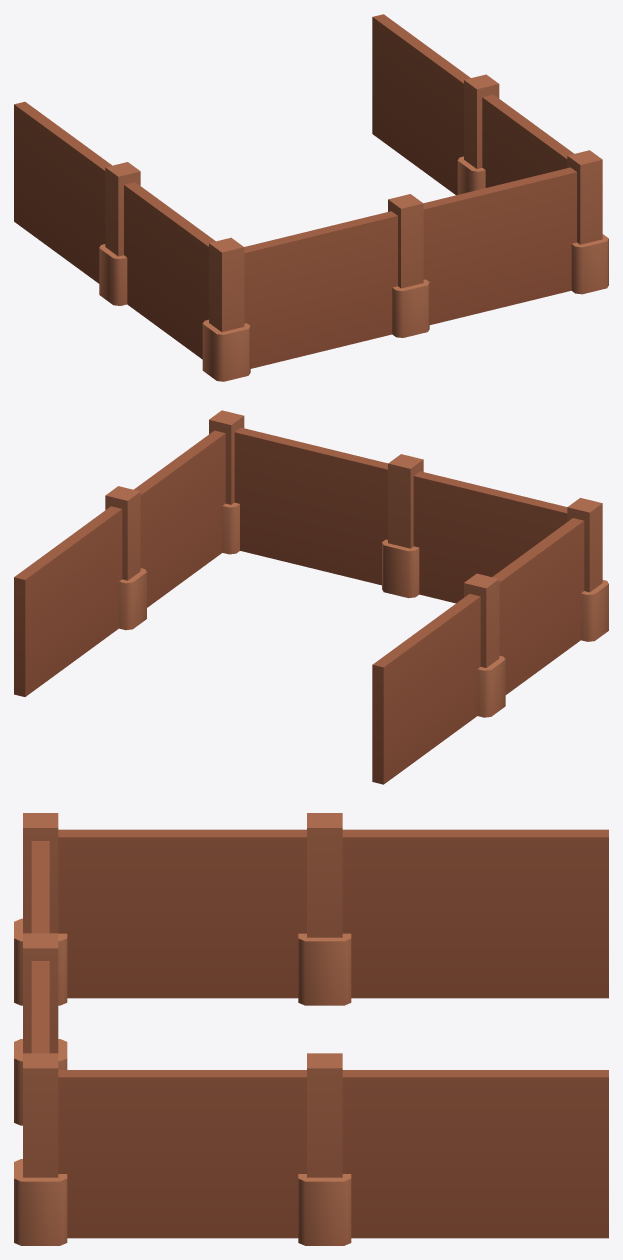
Rendered from fence-2x2.glb.
3 renders of one model, top to bottom at view 1: azimuth 30°, elevation 25°; view 2: azimuth 150°, elevation 25°; view 3: azimuth 270°, elevation 25°, orthographic. The views are drawn at different scales.
Parts seen in each view (by area): view 1: fence-2x2; view 2: fence-2x2; view 3: fence-2x2.
Boxes of the visible parts, x1,y1,x2,y2 form: fence-2x2: [14, 14, 608, 381]; fence-2x2: [14, 410, 608, 784]; fence-2x2: [14, 813, 608, 1245].
Size of the model in its own units: 0.875 by 0.27 by 0.8375.
